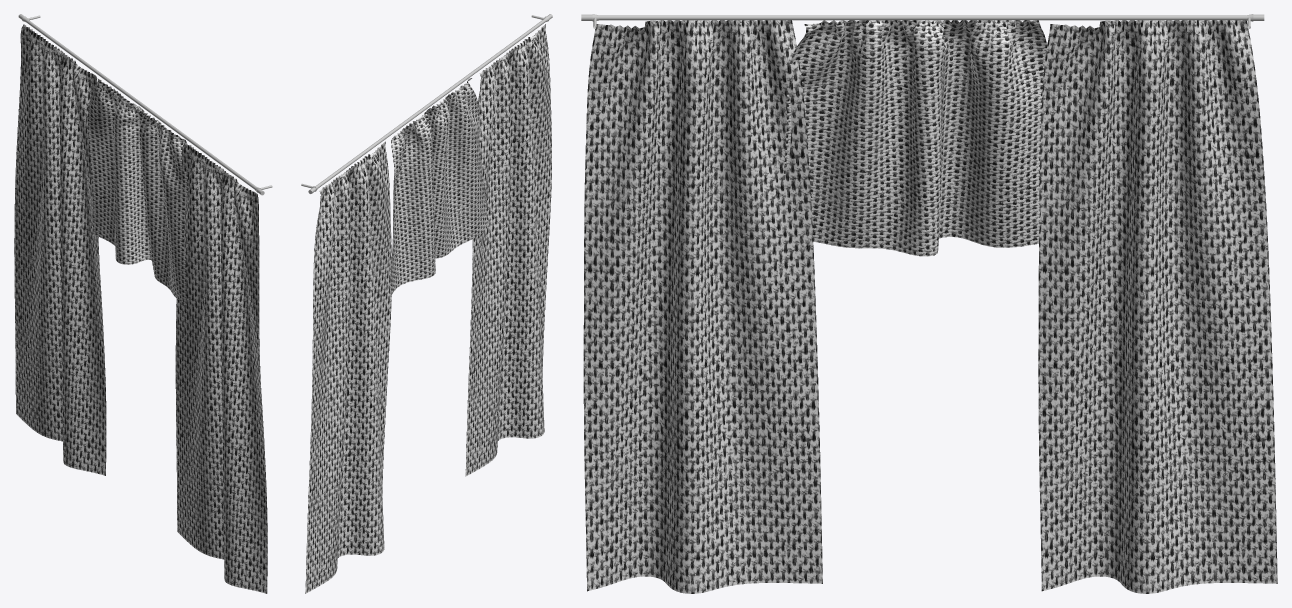
The model's file is SM_Curtain_1.fbx.
The picture shows the model from 3 angles, left to right: view 1: azimuth 30°, elevation 25°; view 2: azimuth 150°, elevation 25°; view 3: azimuth 270°, elevation 25°; orthographic projection. The views are drawn at different scales.
Visible parts, largest first — view 1: SM_Curtain_1; view 2: SM_Curtain_1; view 3: SM_Curtain_1.
Boxes of the visible parts, x1,y1,x2,y2 form: SM_Curtain_1: [14, 14, 272, 593]; SM_Curtain_1: [301, 14, 552, 593]; SM_Curtain_1: [581, 14, 1277, 593].
Bounding box in the file's own units: 20.97 × 309 × 280.
2 materials, 1 textured.
